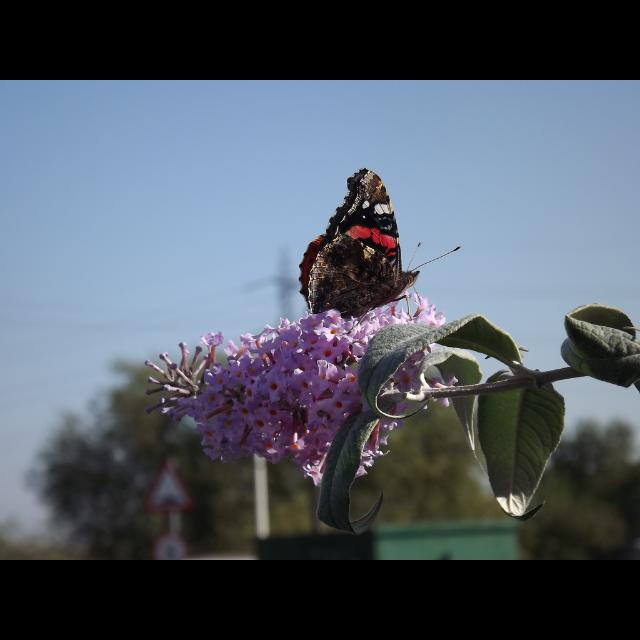Flower: (146, 289, 458, 487)
